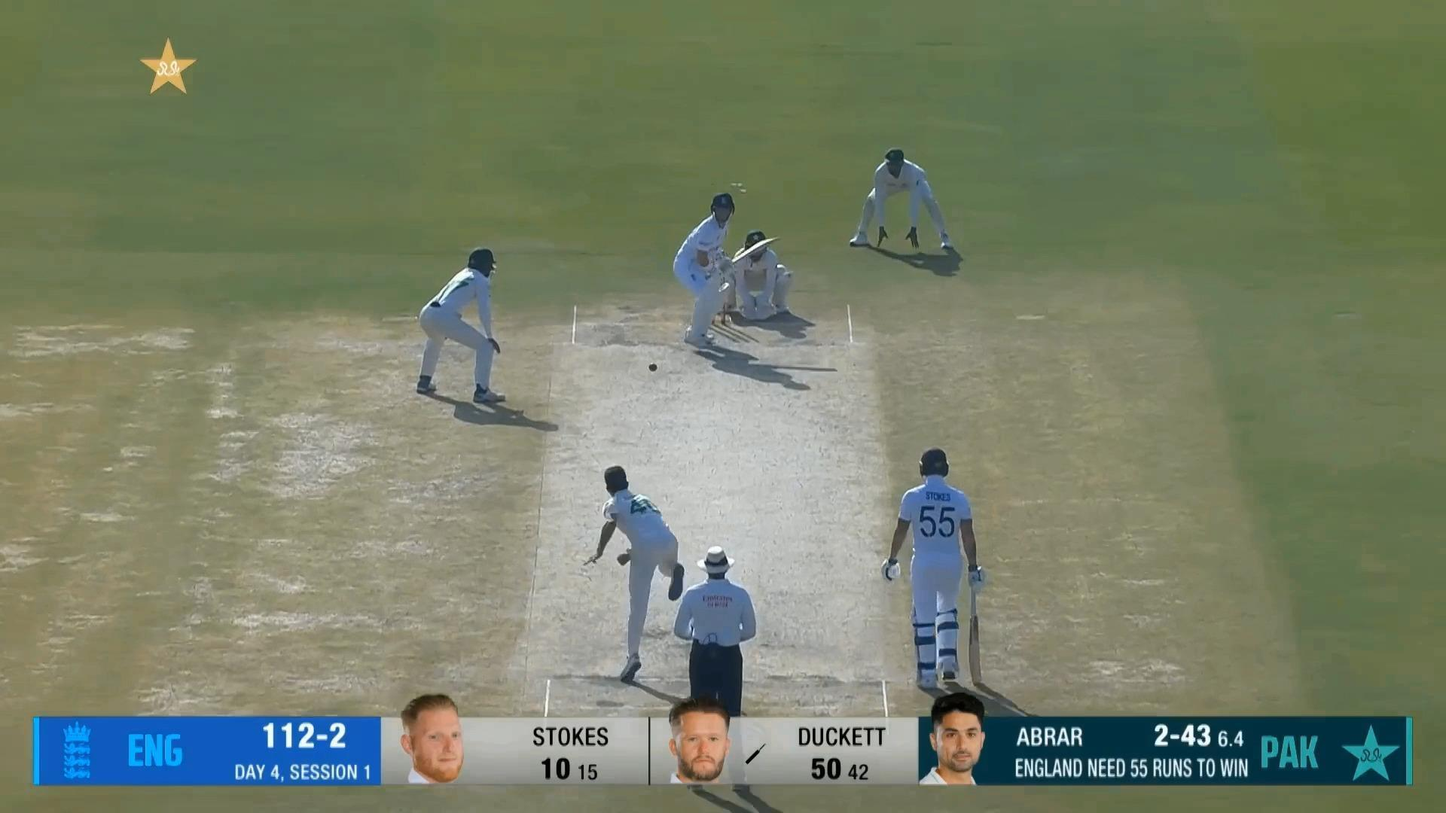BM 1: (672, 190, 784, 346)
BO: (584, 464, 687, 684)
